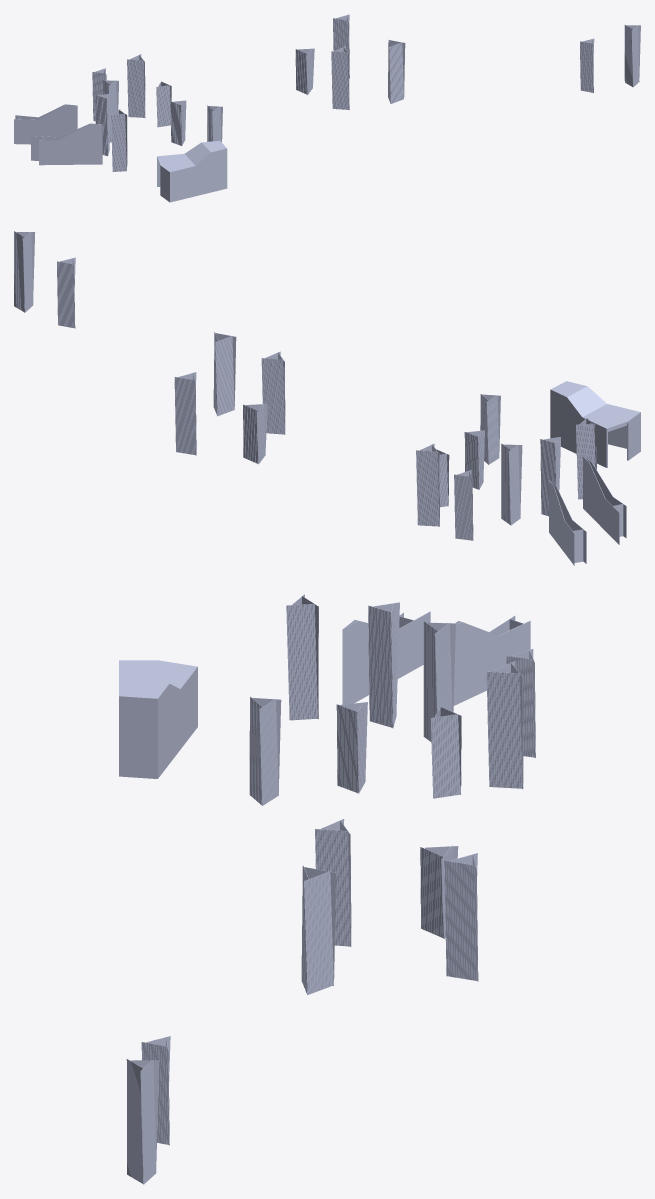
File: 20210605_Scenographic elements.gltf
The picture shows the model from 3 angles, top to bottom: view 1: azimuth 30°, elevation 25°; view 2: azimuth 150°, elevation 25°; view 3: azimuth 270°, elevation 25°; orthographic projection. The views are drawn at different scales.
Parts seen in each view (by area): view 1: color-9, color-8, color-7, color-6[2], color-6[8], color[4], color-3[1], color-5[7], color-2[5], color[1], color-6[5], color[10] (+5 smaller); view 2: color-9, color-8, color-7, color-6, color-6[3], color-6[6], color-3[2], color-5[1], color-5[8], color[5], color[2], color[7] (+6 smaller); view 3: color-9, color-7, color-6[1], color-6[4], color-8, color[3], color-3, color, color-6[7], color-2[4], color-4[2], color[9] (+8 smaller).
Boxes of the visible parts, <box> form: color-9: <box>157,140,227,202</box>; color-8: <box>31,123,102,165</box>; color-7: <box>14,104,77,144</box>; color-6[2]: <box>127,59,144,117</box>; color-6[8]: <box>331,51,349,109</box>; color[4]: <box>111,113,126,171</box>; color-3[1]: <box>389,42,403,103</box>; color-5[7]: <box>580,41,593,92</box>; color-2[5]: <box>156,85,170,127</box>; color[1]: <box>95,95,107,155</box>; color-6[5]: <box>333,18,349,78</box>; color[10]: <box>624,25,632,86</box>; color-9: <box>550,381,640,467</box>; color-8: <box>583,456,626,544</box>; color-7: <box>549,480,586,565</box>; color-6: <box>416,450,439,526</box>; color-6[3]: <box>174,377,196,455</box>; color-6[6]: <box>261,358,284,434</box>; color-3[2]: <box>215,336,234,416</box>; color-5[1]: <box>454,474,472,540</box>; color-5[8]: <box>57,261,74,328</box>; color[5]: <box>576,423,595,499</box>; color[2]: <box>540,439,555,516</box>; color[7]: <box>508,444,520,525</box>; color-9: <box>119,660,197,778</box>; color-7: <box>453,615,530,705</box>; color-6[1]: <box>486,671,522,788</box>; color-6[4]: <box>444,860,477,980</box>; color-8: <box>342,611,430,704</box>; color[3]: <box>286,603,317,720</box>; color-3: <box>303,871,333,994</box>; color: <box>368,605,392,727</box>; color-6[7]: <box>315,829,350,946</box>; color-2[4]: <box>430,714,460,798</box>; color-4[2]: <box>420,847,443,938</box>; color[9]: <box>126,1059,143,1183</box>.
Size of the model in its own units: 72.91 by 7.45 by 24.47.
